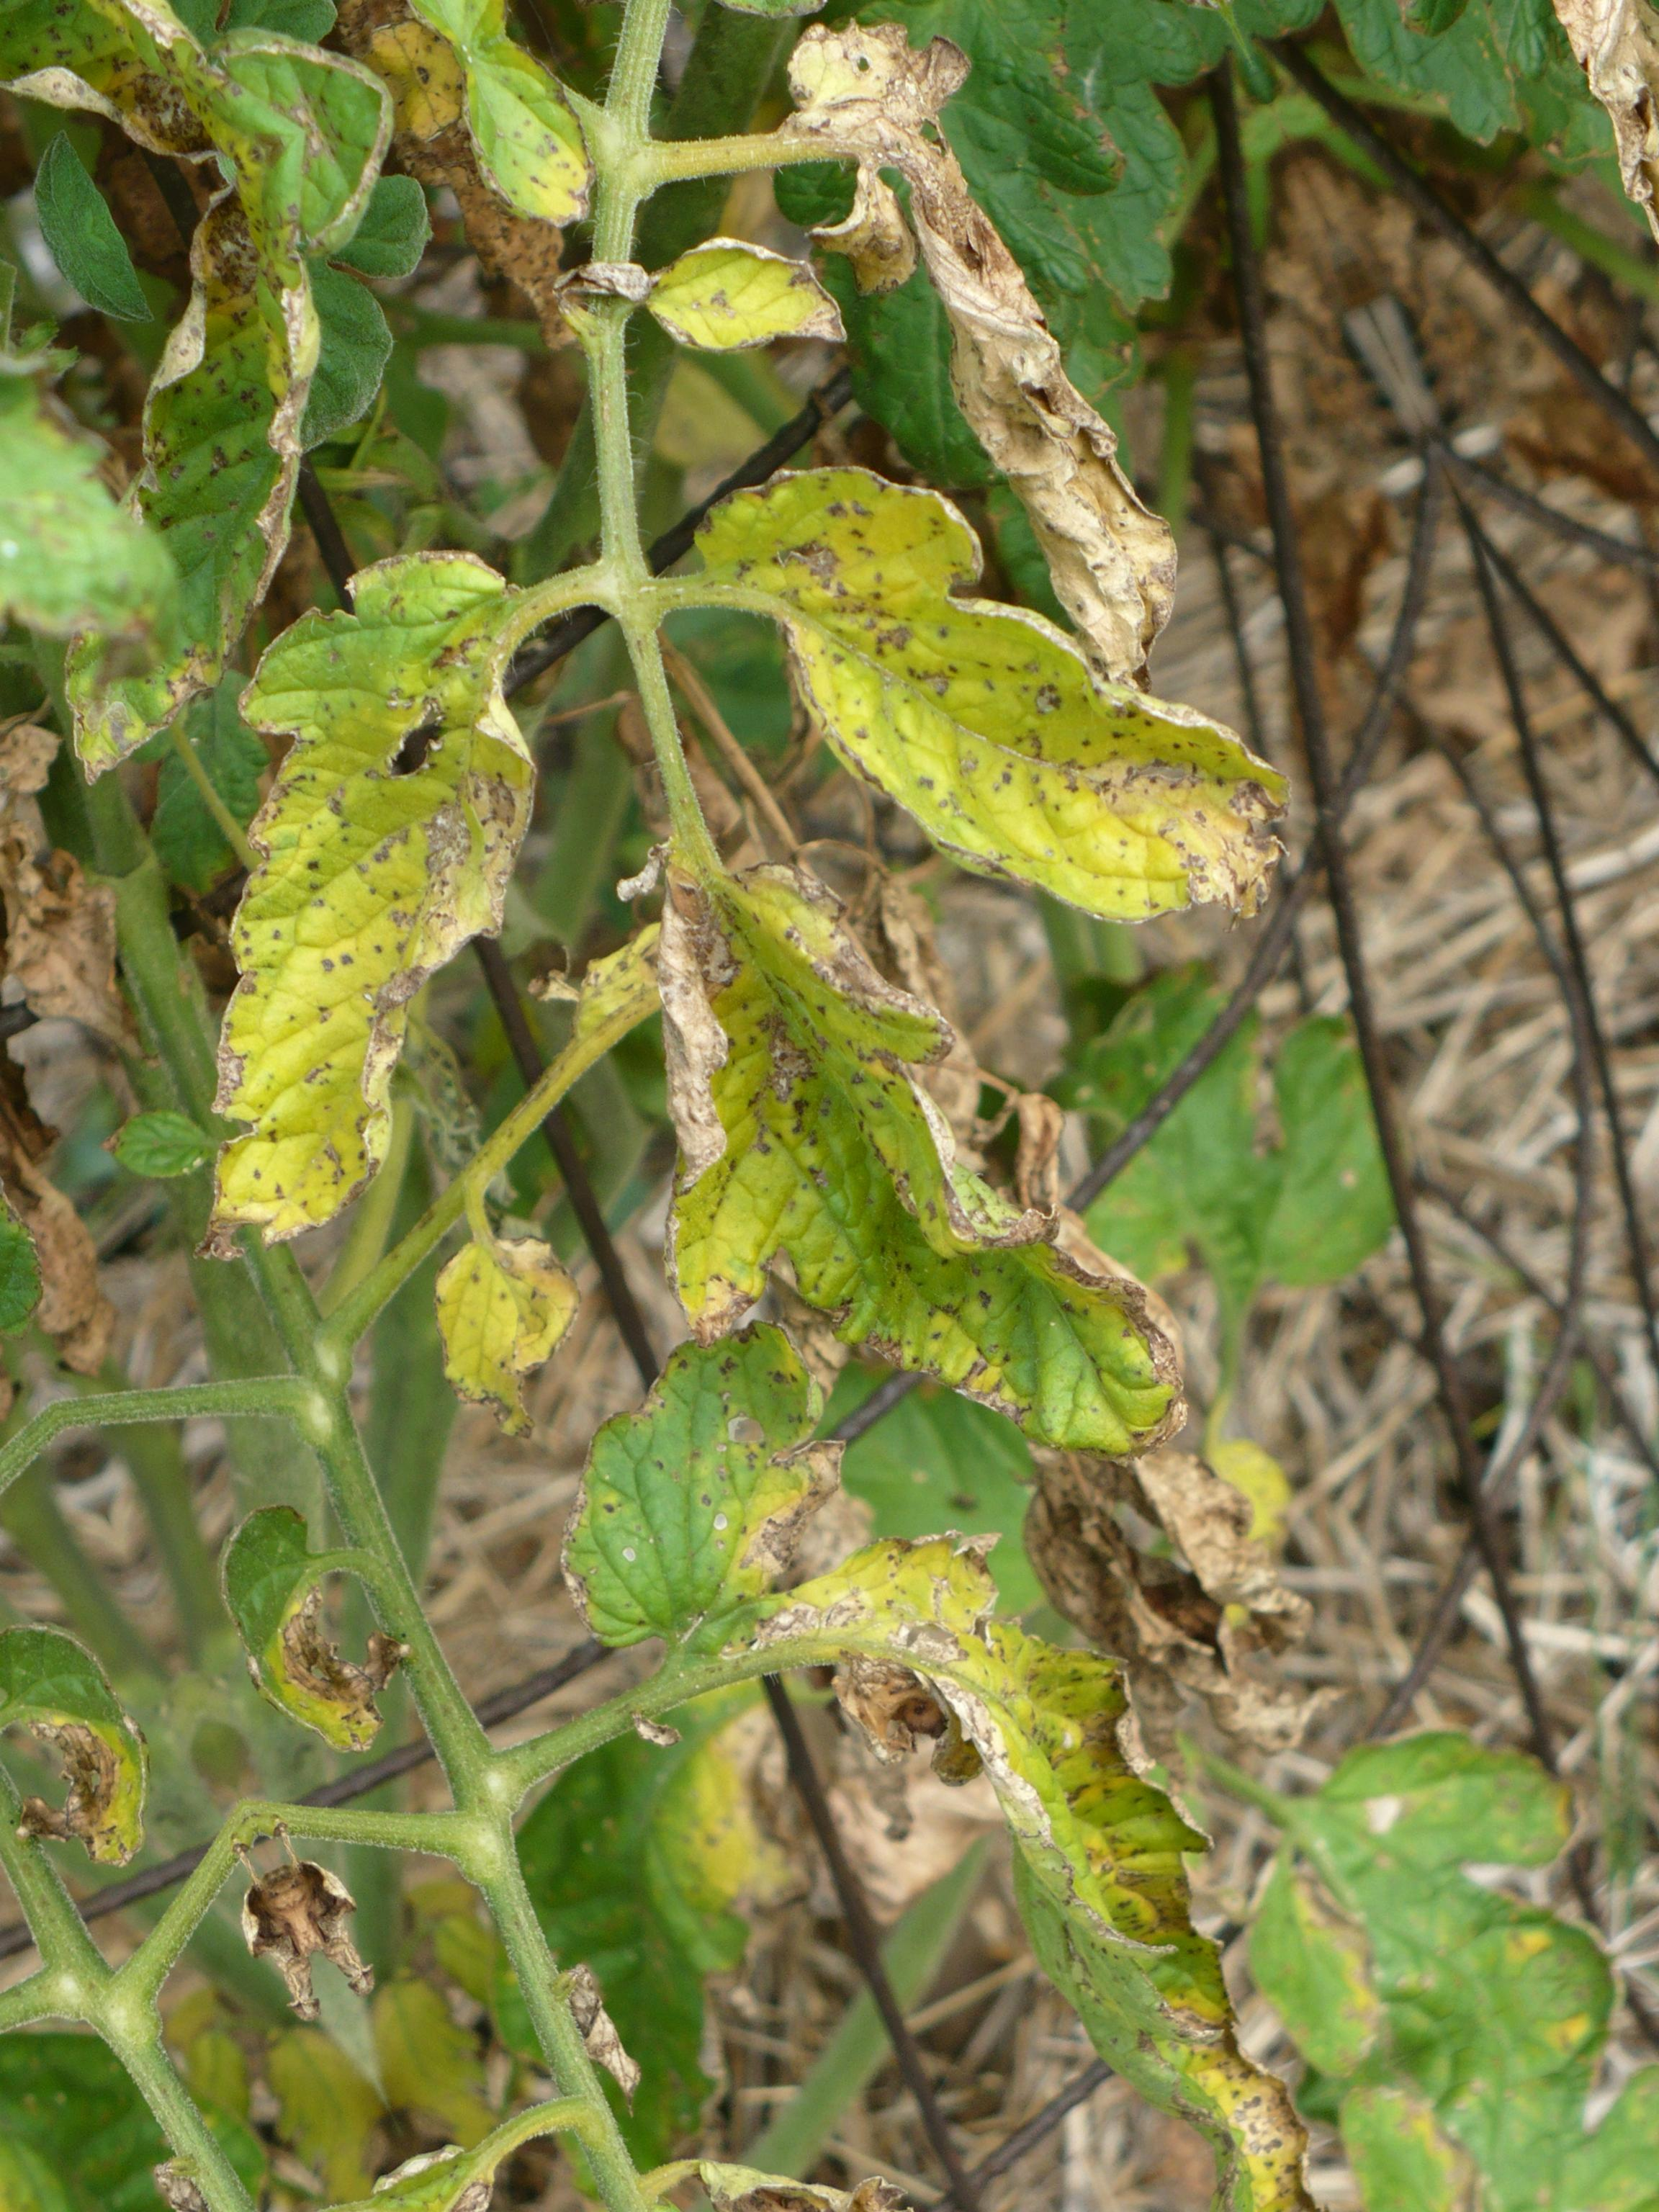Tomato Septoria leaf spot: (436, 1261, 1330, 2212), (0, 484, 781, 1322), (505, 766, 1229, 1592), (638, 340, 1283, 1069)
